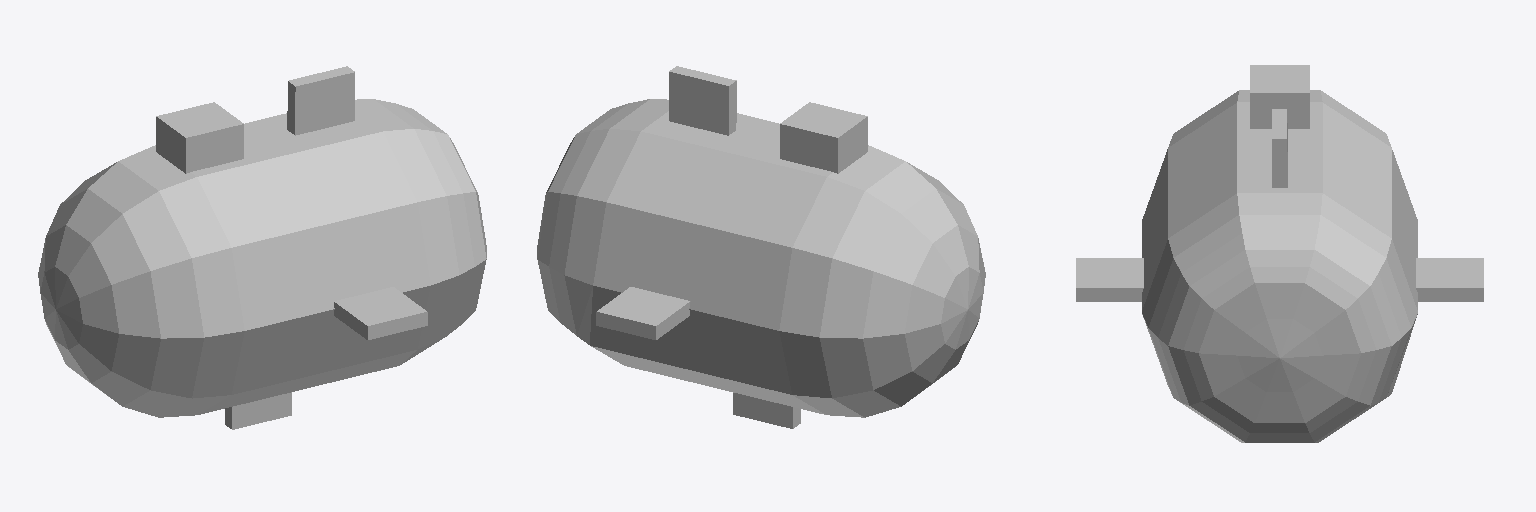
File: sub-body.obj
3 renders of one model, left to right at view 1: azimuth 30°, elevation 25°; view 2: azimuth 150°, elevation 25°; view 3: azimuth 270°, elevation 25°, orthographic.
Visible parts, largest first — view 1: body, pinnaSopra, pinnaSx.001, pinnaSx, pinnaSotto; view 2: body, pinnaSopra, pinnaSx.001, pinnaDx, pinnaSotto; view 3: body, pinnaSopra, pinnaDx, pinnaSx, pinnaSx.001.
Part boxes in pixels (bbox=[...]): body: bbox=[38, 99, 486, 417]; pinnaSopra: bbox=[156, 102, 243, 173]; pinnaSx.001: bbox=[287, 66, 354, 135]; pinnaSx: bbox=[334, 287, 427, 339]; pinnaSotto: bbox=[225, 392, 291, 429]; body: bbox=[537, 99, 985, 417]; pinnaSopra: bbox=[780, 102, 867, 173]; pinnaSx.001: bbox=[669, 66, 736, 135]; pinnaDx: bbox=[596, 287, 690, 339]; pinnaSotto: bbox=[733, 393, 800, 428]; body: bbox=[1142, 90, 1417, 442]; pinnaSopra: bbox=[1250, 65, 1309, 128]; pinnaDx: bbox=[1416, 258, 1483, 301]; pinnaSx: bbox=[1076, 258, 1143, 301]; pinnaSx.001: bbox=[1272, 109, 1287, 187].
Bounding box in the file's own units: 3.34 × 2.62 × 2.96.